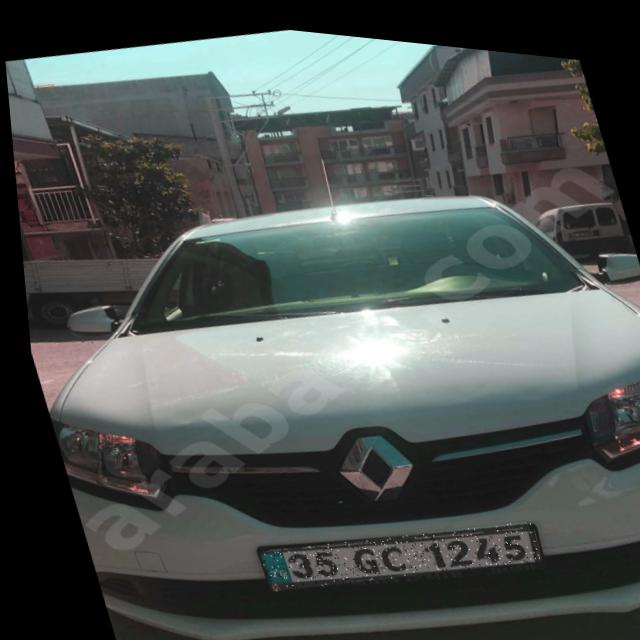license_plate: (245, 487, 536, 609)
